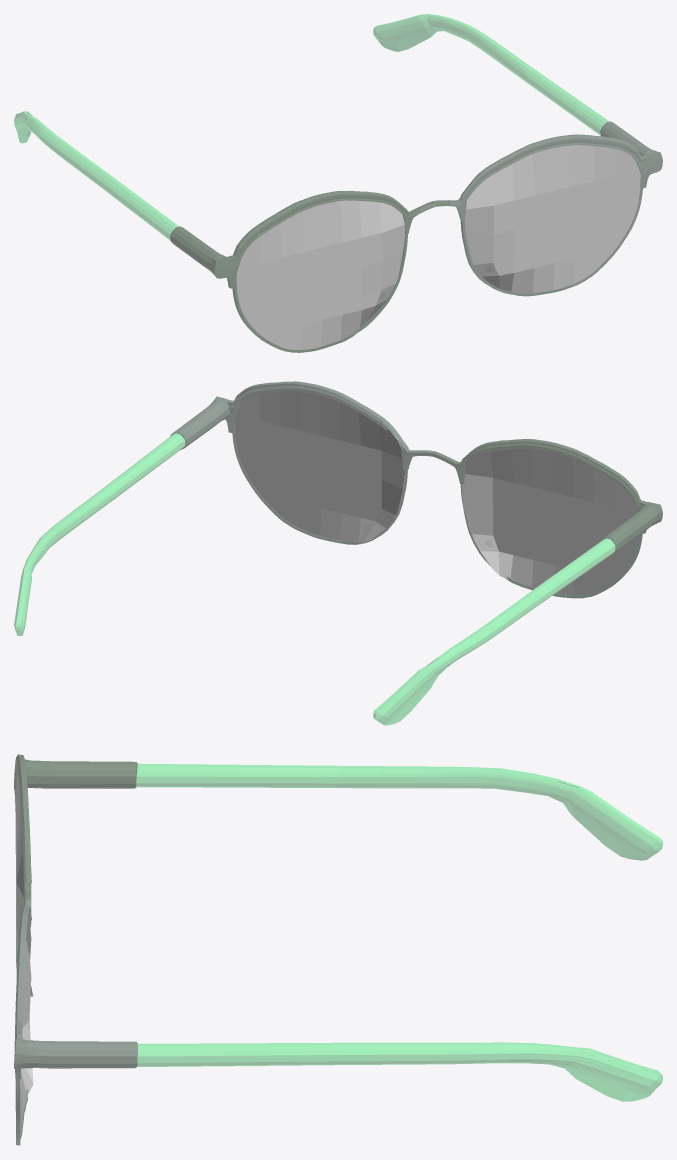
The model's file is 1-White.glb.
3 renders of one model, top to bottom at view 1: azimuth 30°, elevation 25°; view 2: azimuth 150°, elevation 25°; view 3: azimuth 270°, elevation 25°, orthographic. The views are drawn at different scales.
Parts seen in each view (by area): view 1: Lens, FrameFront, FrameEnd; view 2: Lens, FrameEnd, FrameFront; view 3: FrameEnd, FrameFront, Lens.
Boxes of the visible parts, left/top/right/bottom form: Lens: left=236, top=145, right=640, bottom=350; FrameFront: left=28, top=113, right=662, bottom=352; FrameEnd: left=14, top=14, right=609, bottom=240; Lens: left=234, top=391, right=638, bottom=595; FrameEnd: left=14, top=433, right=615, bottom=725; FrameFront: left=170, top=381, right=662, bottom=665; FrameEnd: left=136, top=763, right=662, bottom=1101; FrameFront: left=14, top=754, right=578, bottom=1145; Lens: left=16, top=770, right=33, bottom=1133.
Bounding box in the file's own units: 2.2 × 0.7174 × 2.07.
